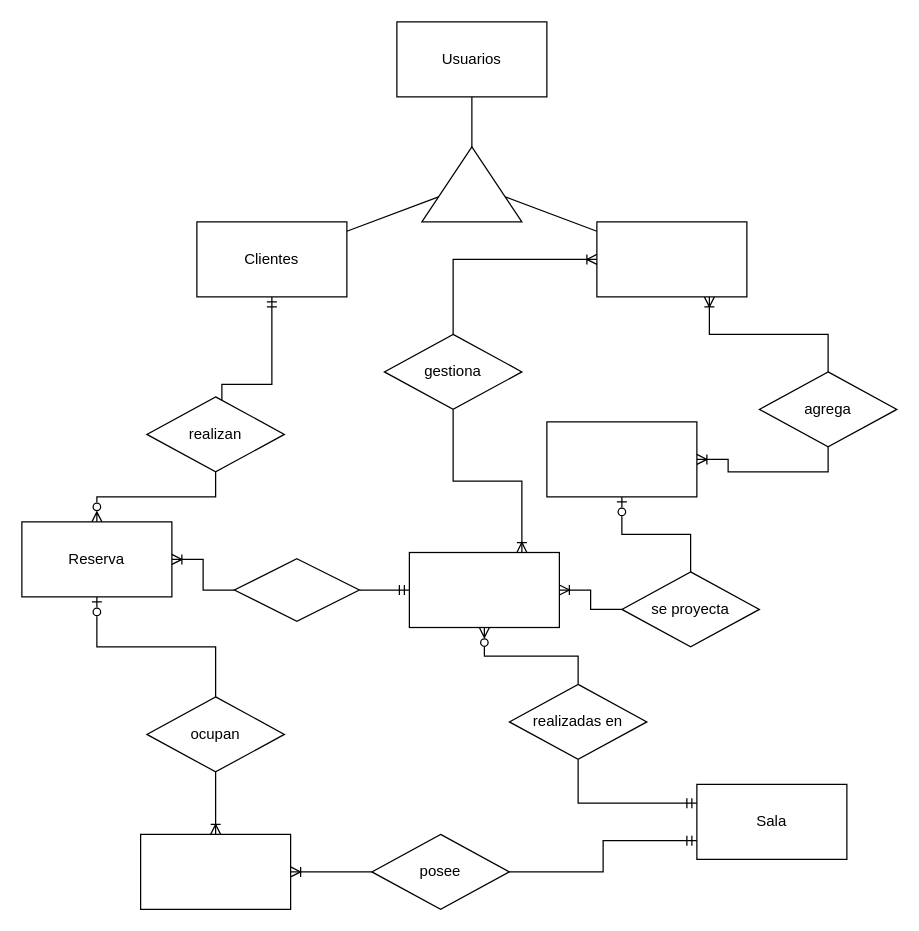
This 919x931 diagram has some shape labels left out. The shapes that lost their labels are listed below. From the top down, each one's centre as x and y in pixels, then its label:
At (x=671, y=259): "Administrador".
At (x=621, y=459): "Pelicula".
At (x=296, y=589): "corresponde a".
At (x=483, y=589): "Funciones".
At (x=215, y=871): "Asientos".
